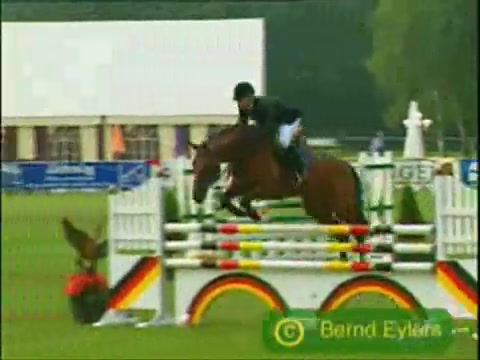horse: (188, 125, 371, 264)
